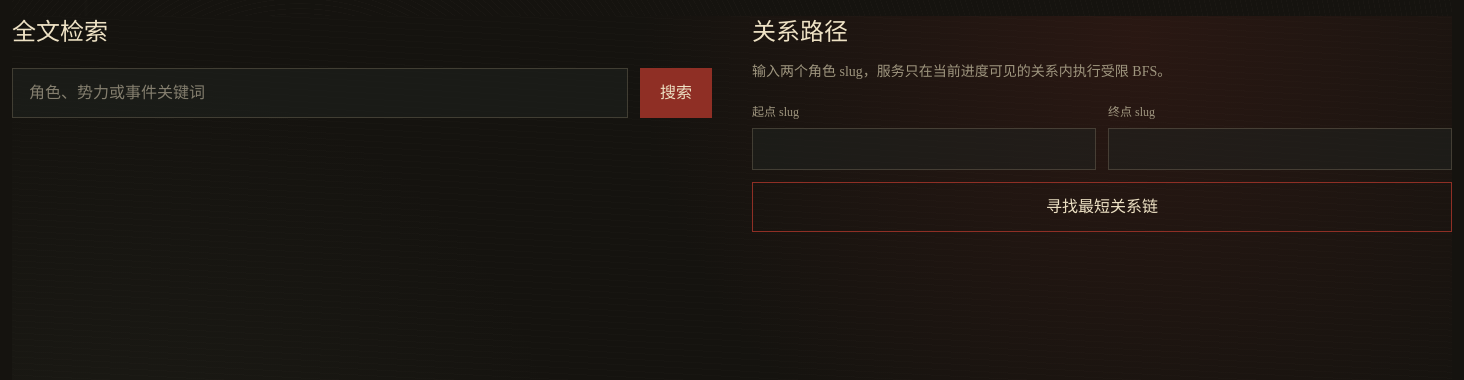
Test: spoiler-aware workflows › renders a bounded relationship path in API order
Type "character-a" into the field labelled "起点 slug" at x=924, y=149, box [752,128,1096,170]
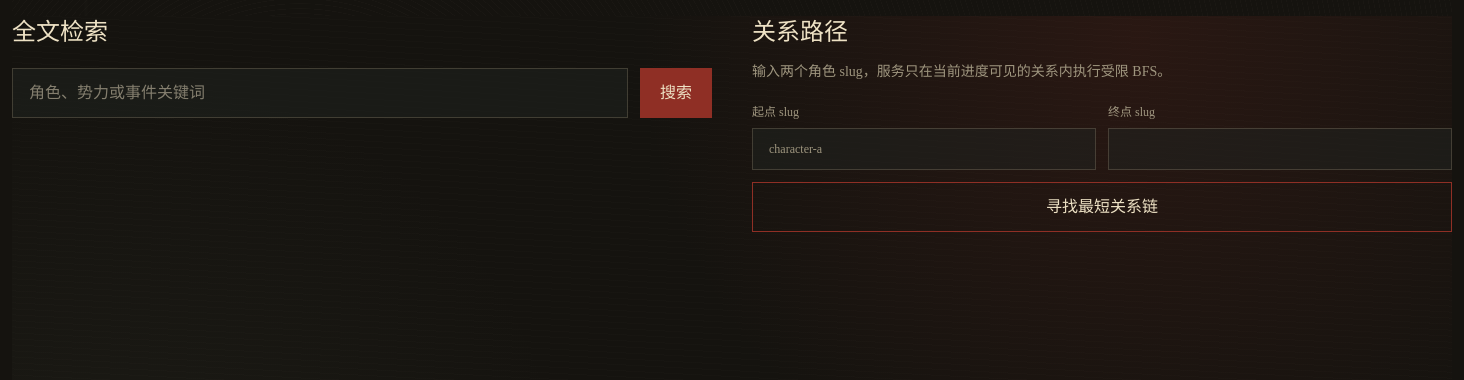
Type "character-c" into the field labelled "终点 slug" at x=1280, y=149, box [1108,128,1452,170]
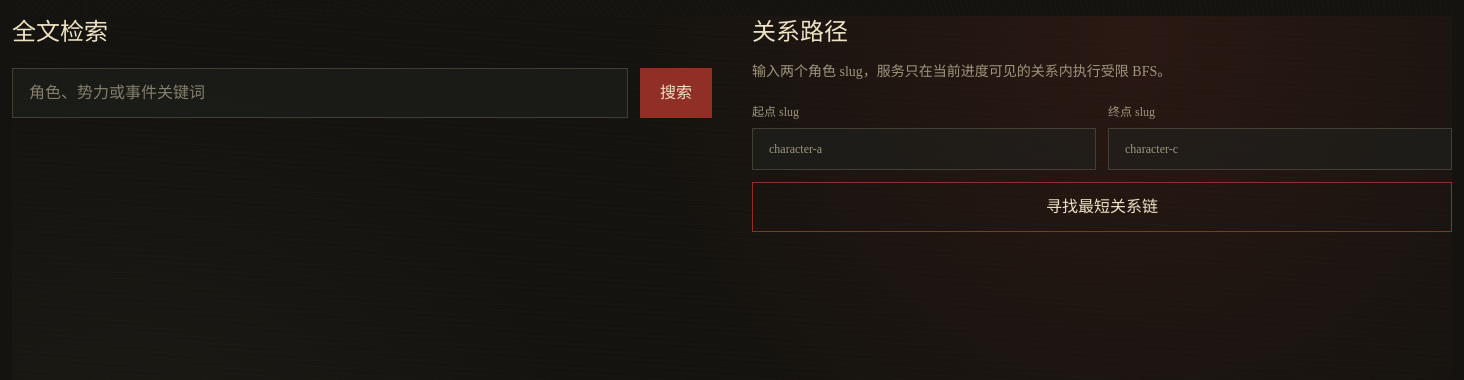
Click the button "寻找最短关系链" at x=1102, y=207, box [752,182,1452,232]
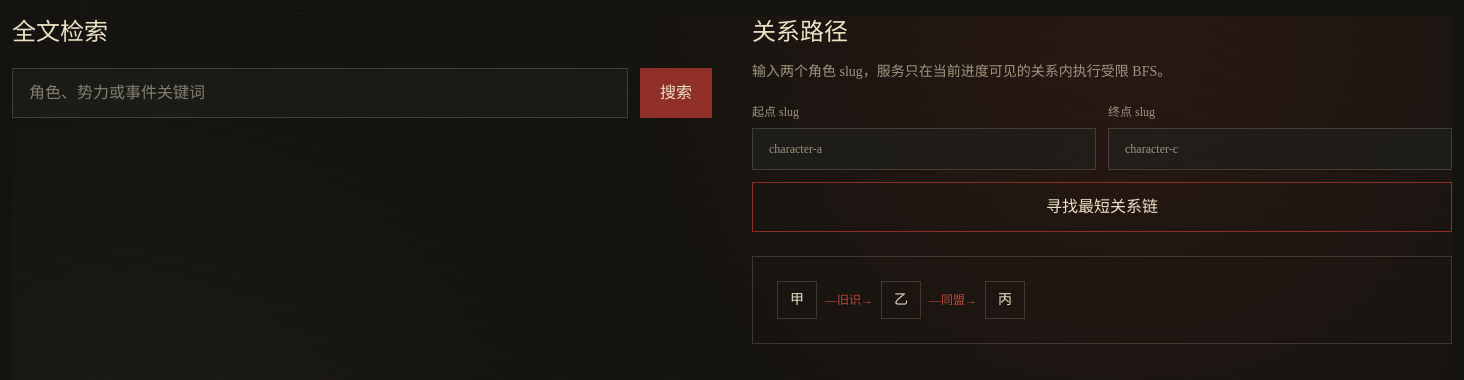
Check: the text "—旧识→" is shown, box [825,292,873,308]
Check: the text "—同盟→" is shown, box [929,292,977,308]
